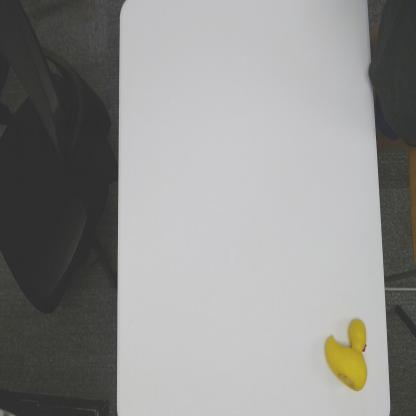Duck: (324, 315, 370, 394)
